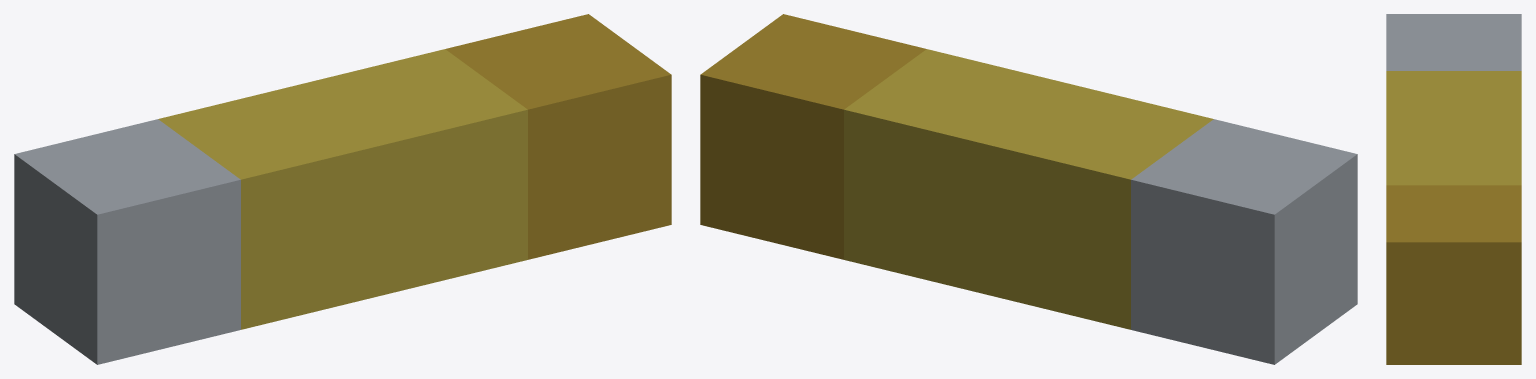
The model's file is 50AMAvox.obj.
3 renders of one model, left to right at view 1: azimuth 30°, elevation 25°; view 2: azimuth 150°, elevation 25°; view 3: azimuth 270°, elevation 25°, orthographic. The views are drawn at different scales.
Parts seen in each view (by area): view 1: rbrsa3a7; view 2: rbrsa3a7; view 3: rbrsa3a7.
Part boxes in pixels (x1=…): rbrsa3a7: x1=14, y1=14, x2=671, y2=364; rbrsa3a7: x1=700, y1=14, x2=1357, y2=364; rbrsa3a7: x1=1386, y1=14, x2=1521, y2=364.
Size of the model in its own units: 0.4 by 0.1 by 0.1.
Materials: 1 (1 with a texture image).
